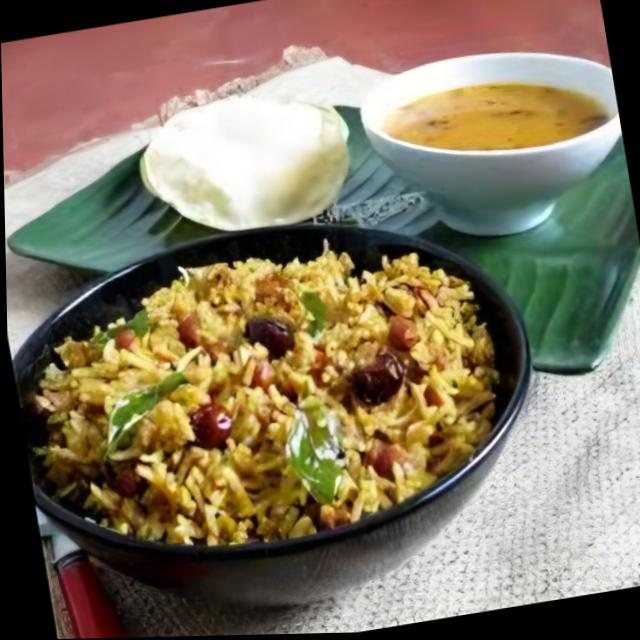PAPADAM: (142, 90, 346, 228)
RICE: (41, 257, 500, 536)
SAMBAR: (383, 84, 600, 148)
